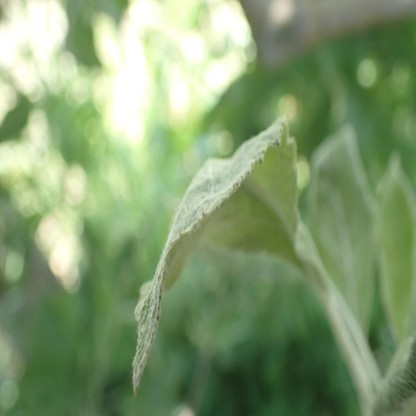powdery_mildew: (133, 113, 300, 395)
